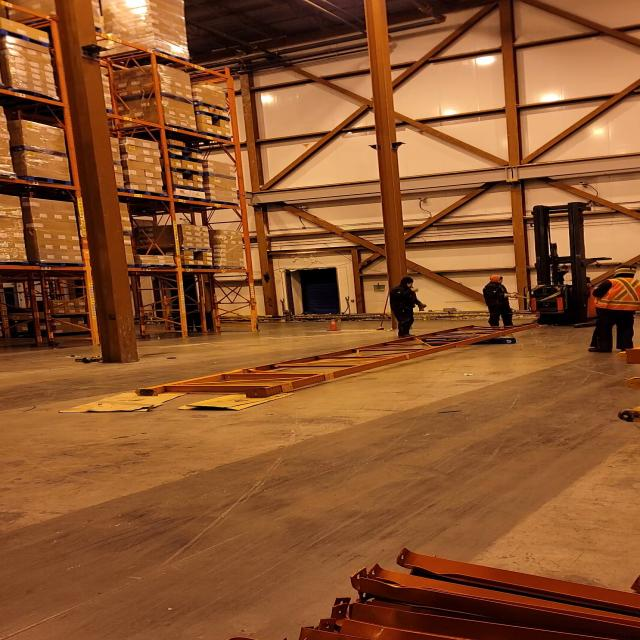forklift: (503, 204, 620, 328)
human: (586, 268, 640, 354), (382, 275, 426, 339), (476, 274, 522, 330)
objectofinterest: (129, 320, 544, 398), (57, 384, 187, 416), (174, 388, 300, 413), (469, 331, 518, 348)
